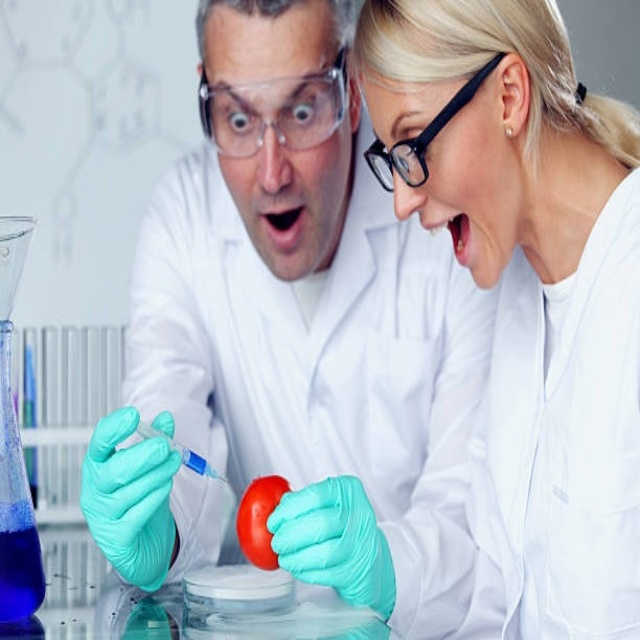Gafas: (362, 54, 506, 194), (200, 49, 349, 159)
Guantes: (80, 404, 182, 591), (269, 474, 396, 622)
Sin_mascara: (415, 207, 495, 290), (244, 196, 318, 256)
